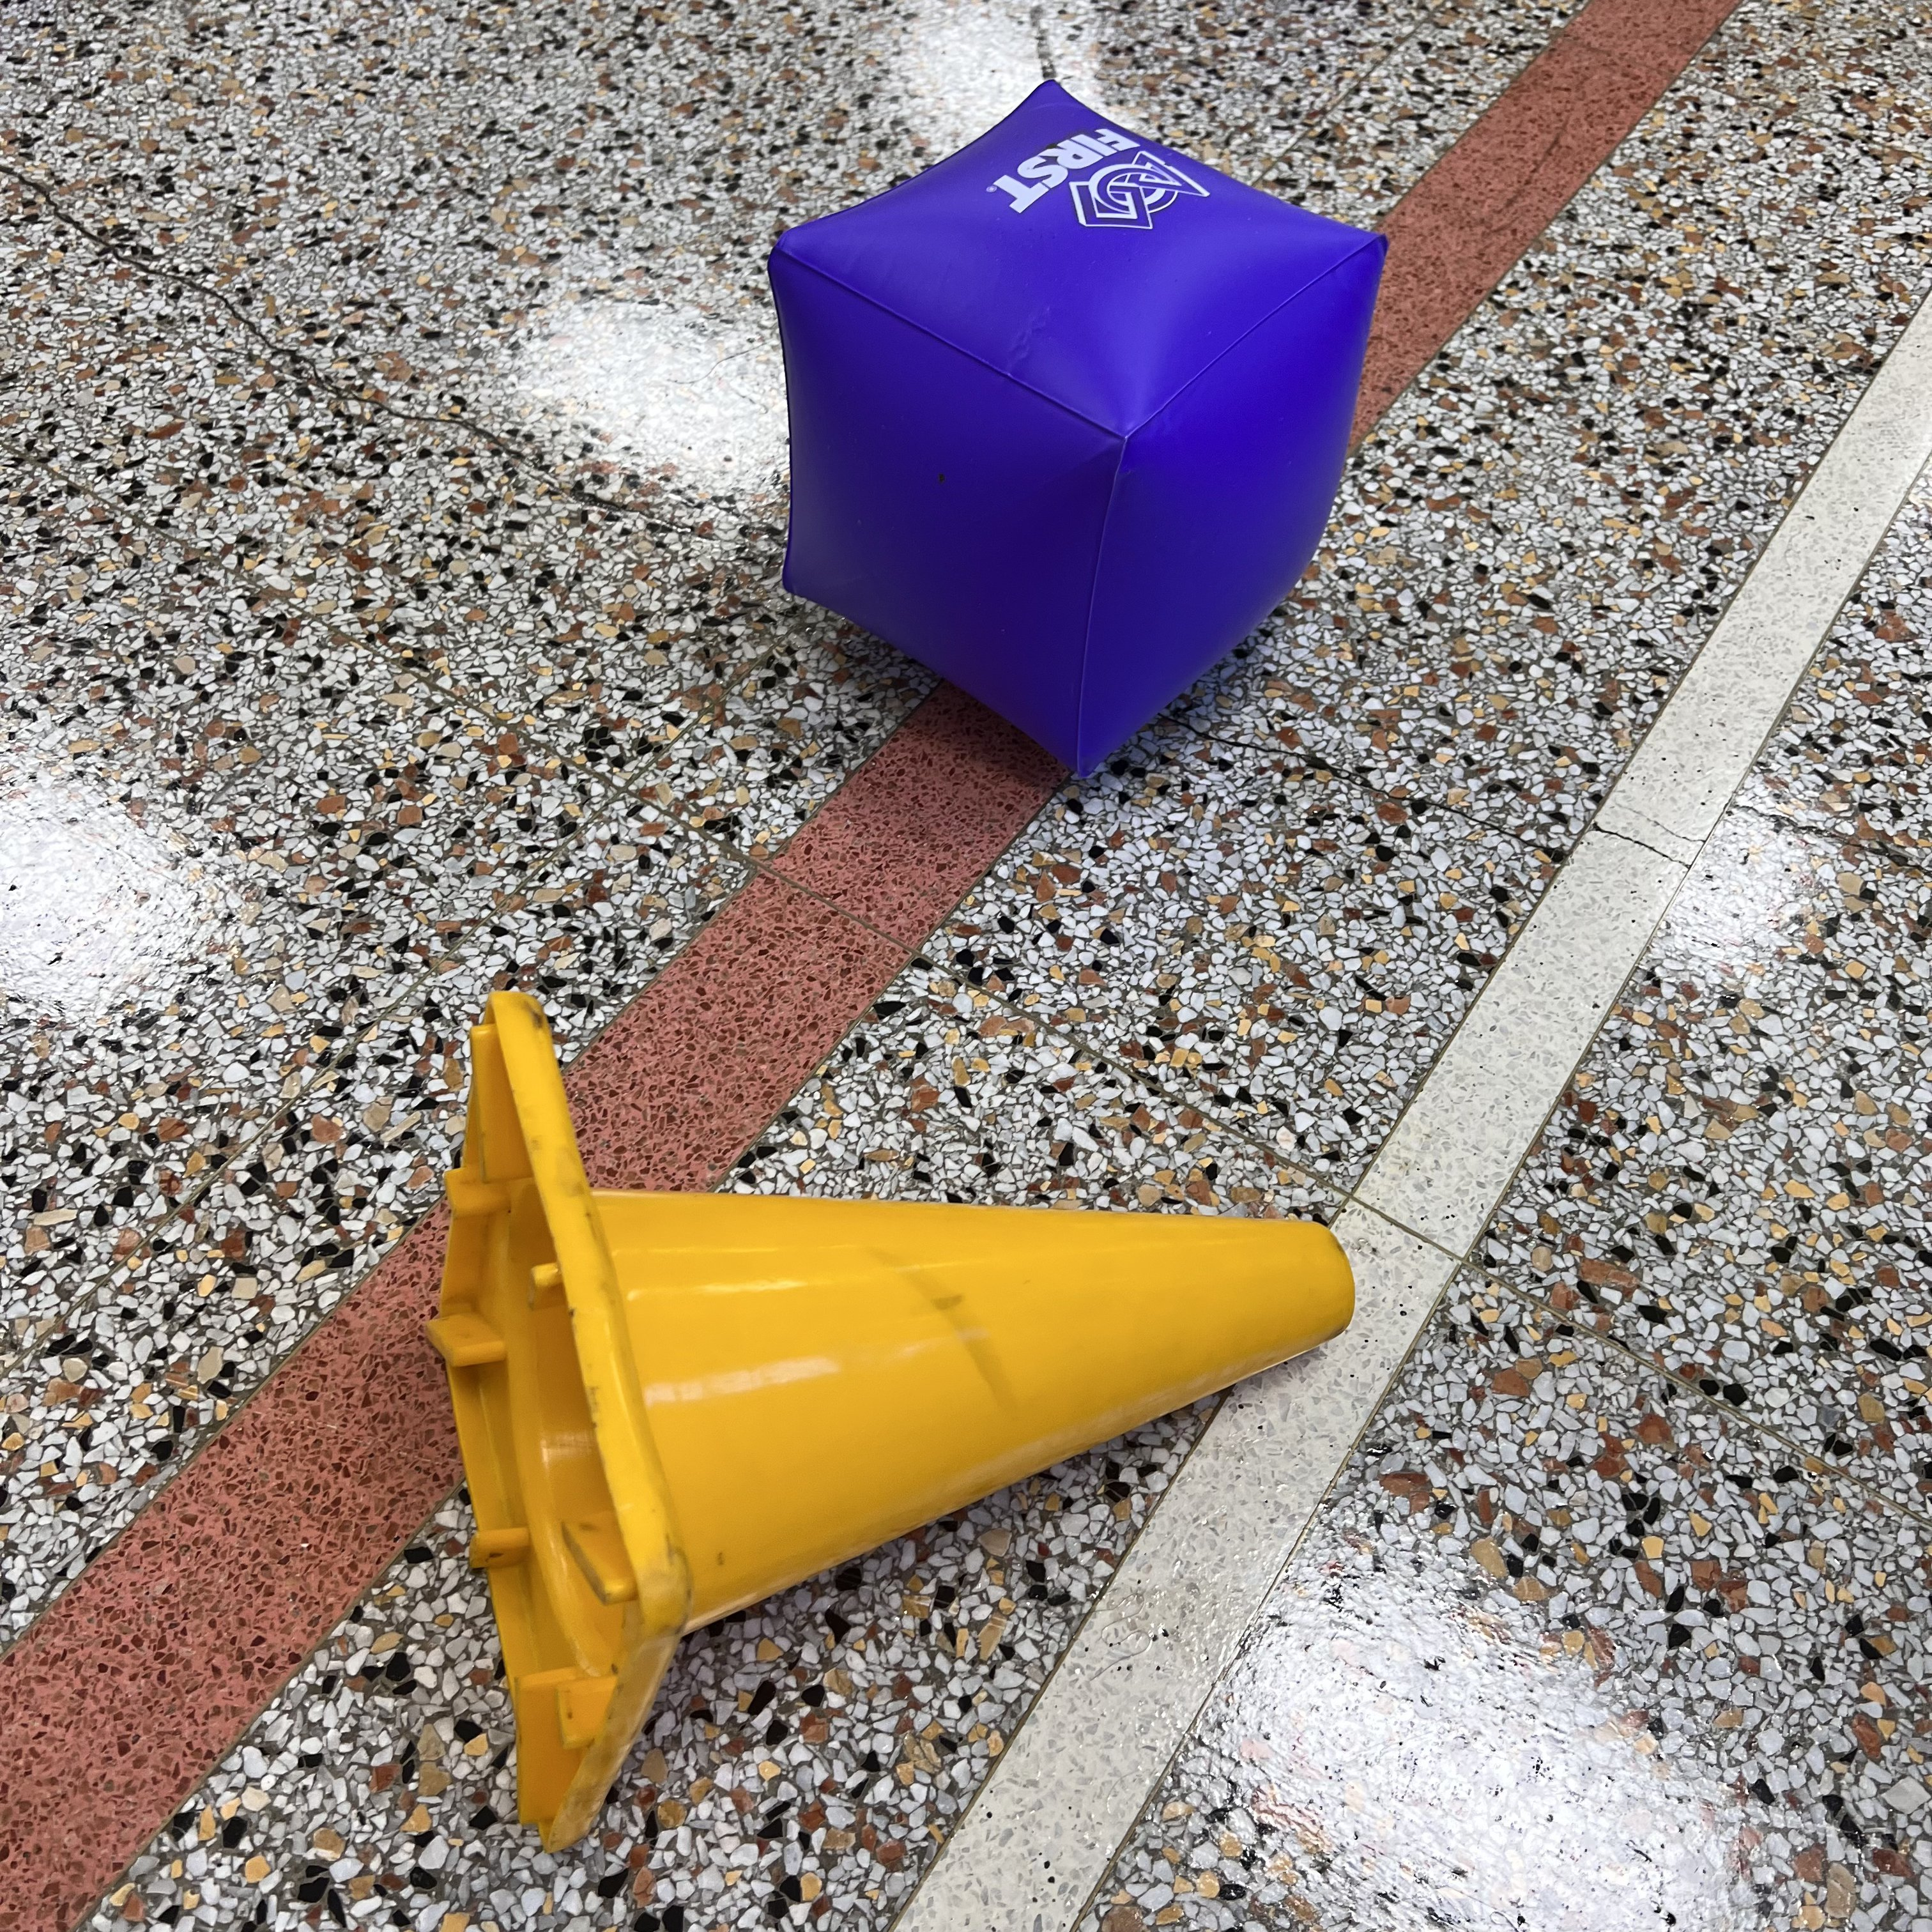cone: (425, 994, 1353, 1851)
cube: (766, 80, 1387, 775)
